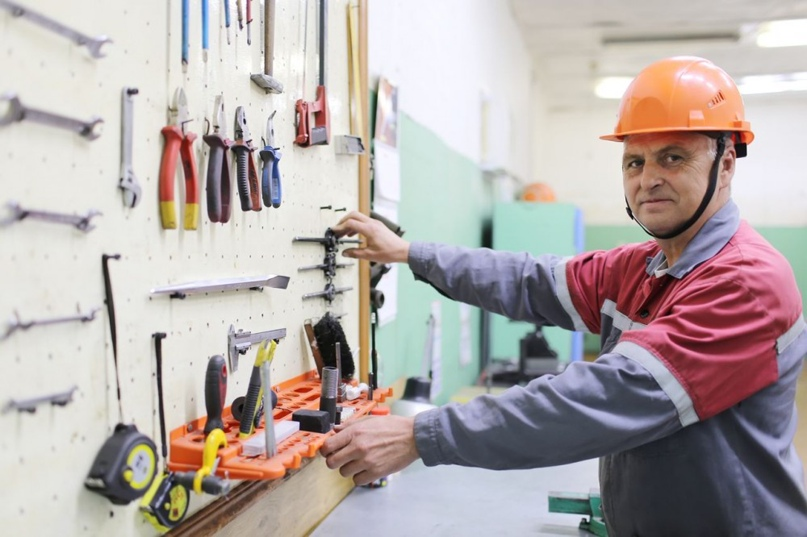person: (320, 56, 807, 537)
